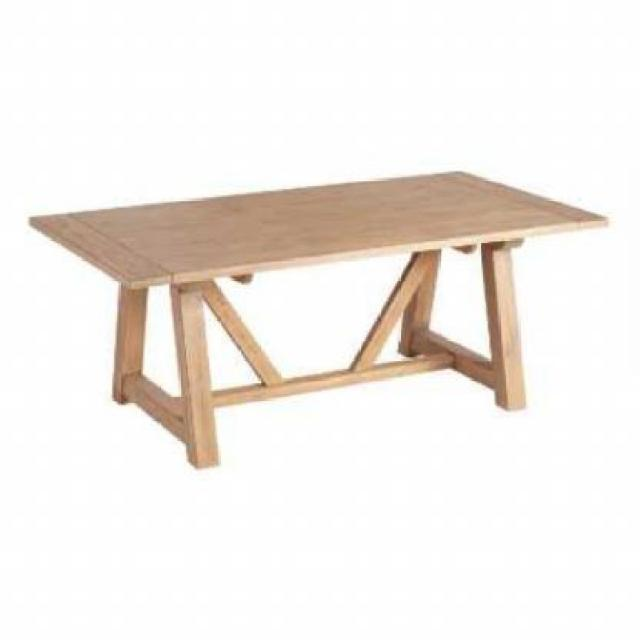tables: (26, 168, 609, 469)
